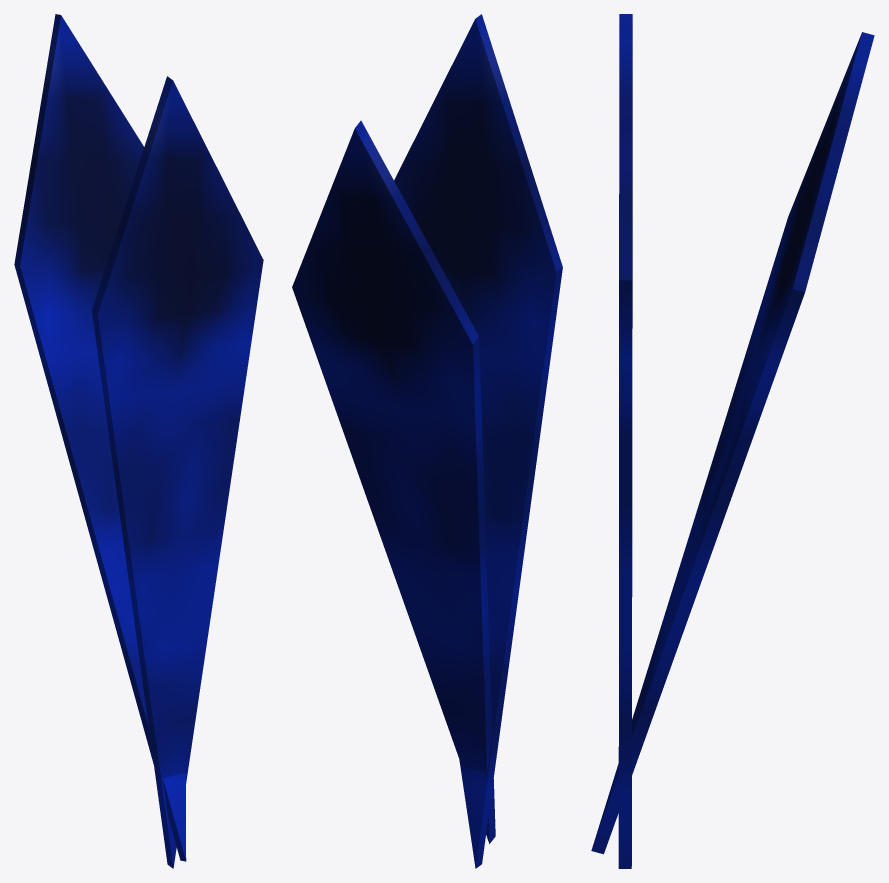
File: feather_02.dae
The picture shows the model from 3 angles, left to right: view 1: azimuth 30°, elevation 25°; view 2: azimuth 150°, elevation 25°; view 3: azimuth 270°, elevation 25°; orthographic projection. The views are drawn at different scales.
Visible parts, largest first — view 1: a_feather_02; view 2: a_feather_02; view 3: a_feather_02.
Boxes of the visible parts, x1=… form: a_feather_02: x1=14, y1=14, x2=263, y2=868; a_feather_02: x1=292, y1=14, x2=562, y2=868; a_feather_02: x1=591, y1=14, x2=874, y2=868.
Bounding box in the file's own units: 0.1589 × 0.2172 × 0.7231.
